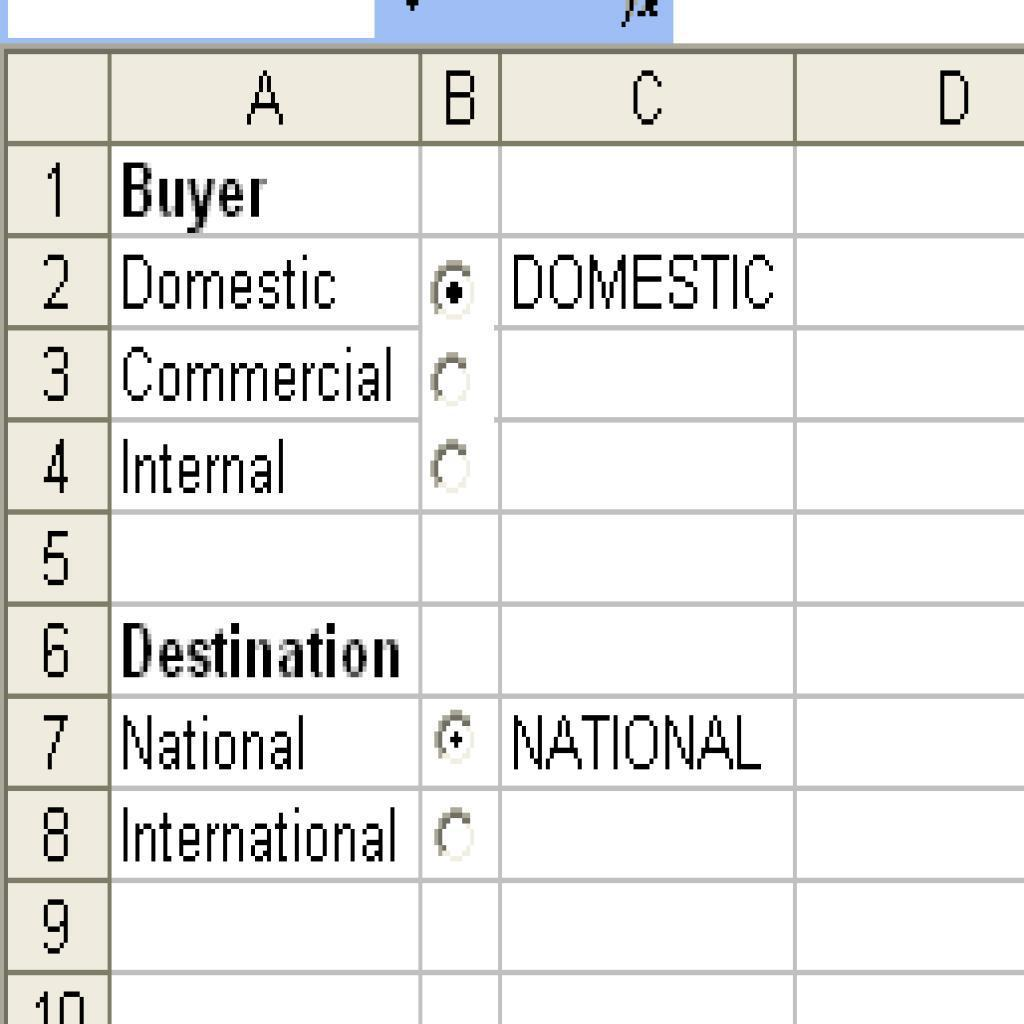radio: (434, 701, 483, 771), (426, 430, 476, 492), (431, 807, 481, 866), (429, 260, 481, 314), (430, 344, 472, 404)
table: (3, 50, 1024, 1024)
